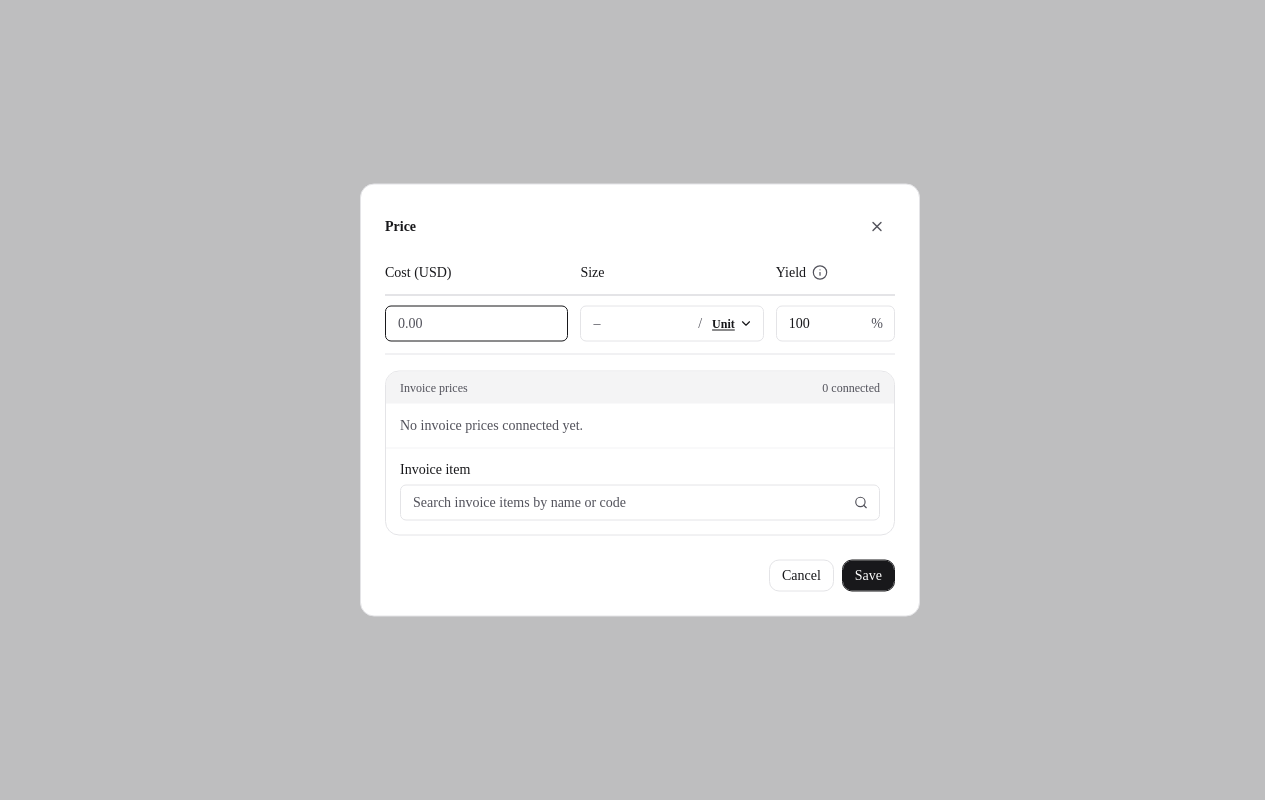
Test: the purchase unit dialog's Save button › asks for a purchase unit instead of saving
Click the button "Save" at {"x": 868, "y": 576}, box left=842, top=560, right=895, bottom=592
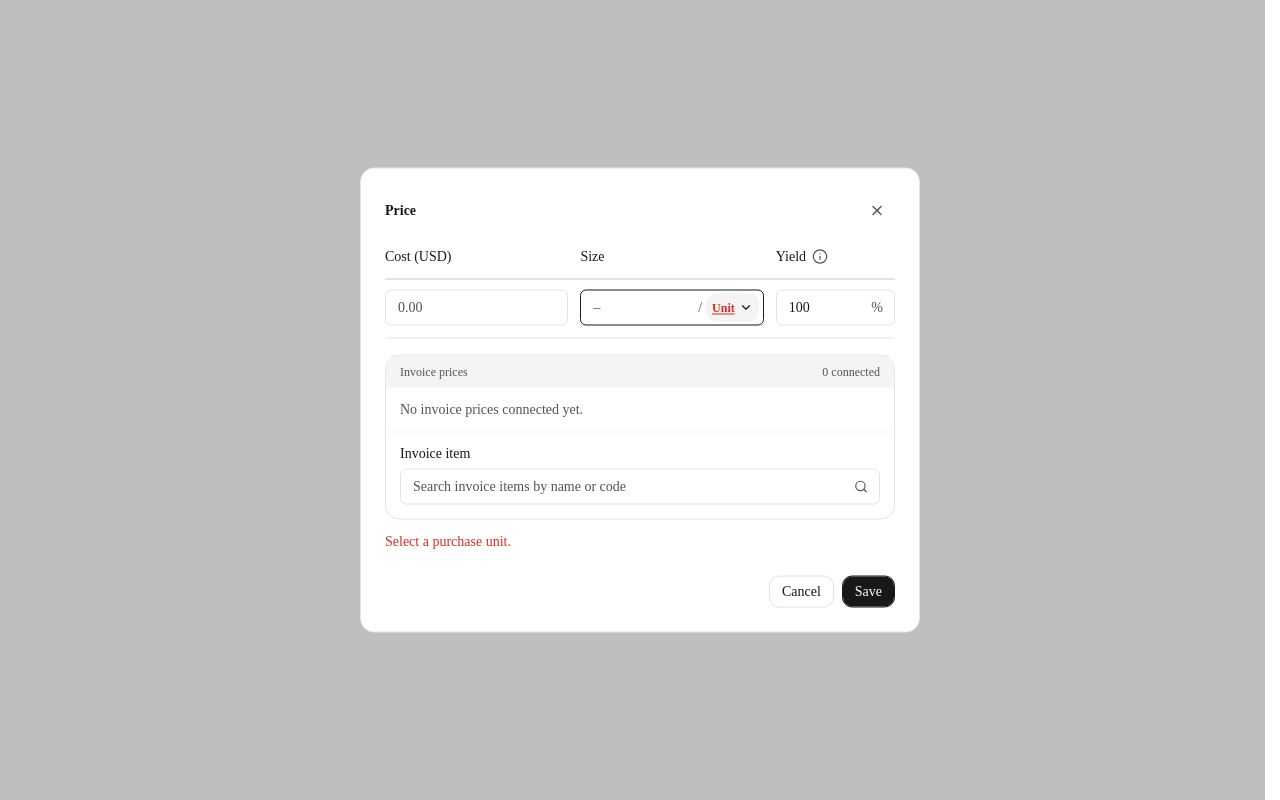
Expected: the message reads "Select a purchase unit.", left=385, top=534, right=511, bottom=548
